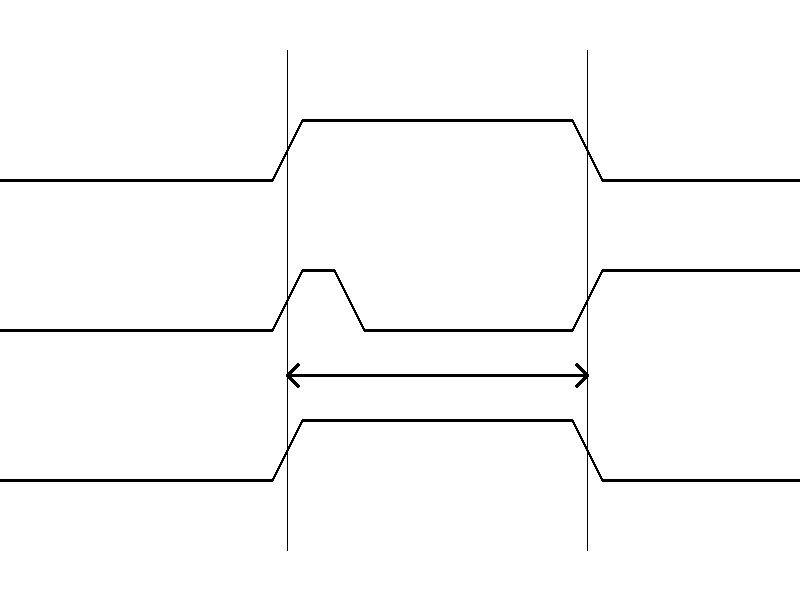double_arrow: (287, 360, 587, 390)
